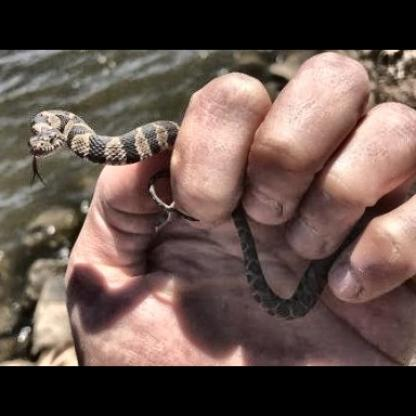Snake: (14, 73, 412, 354), (17, 90, 198, 238)
